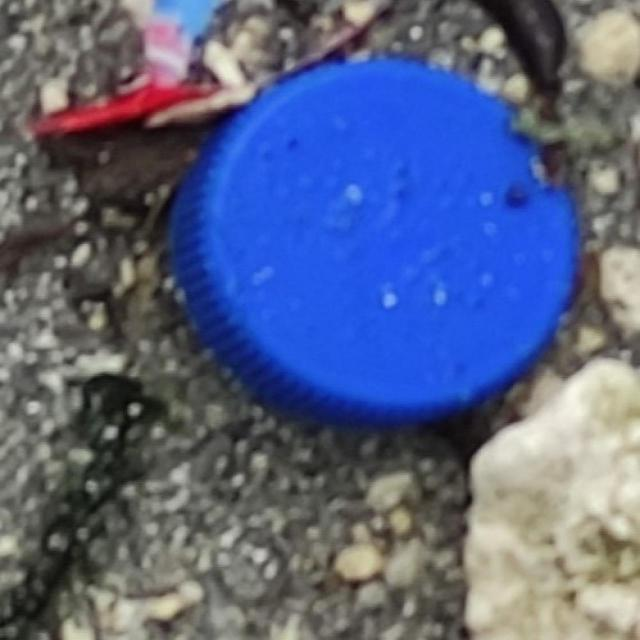plastic_waste: (171, 50, 592, 442)
